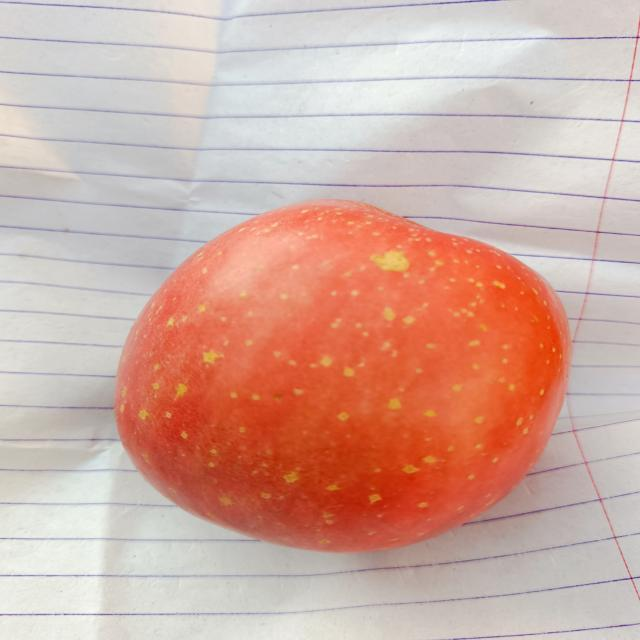Fresh Apple: (117, 194, 558, 568)
